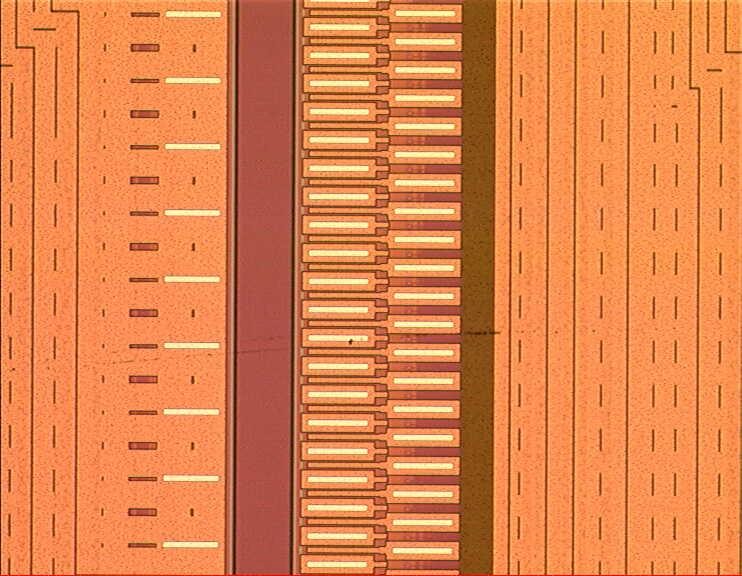SCRATCH: (1, 308, 608, 394)
